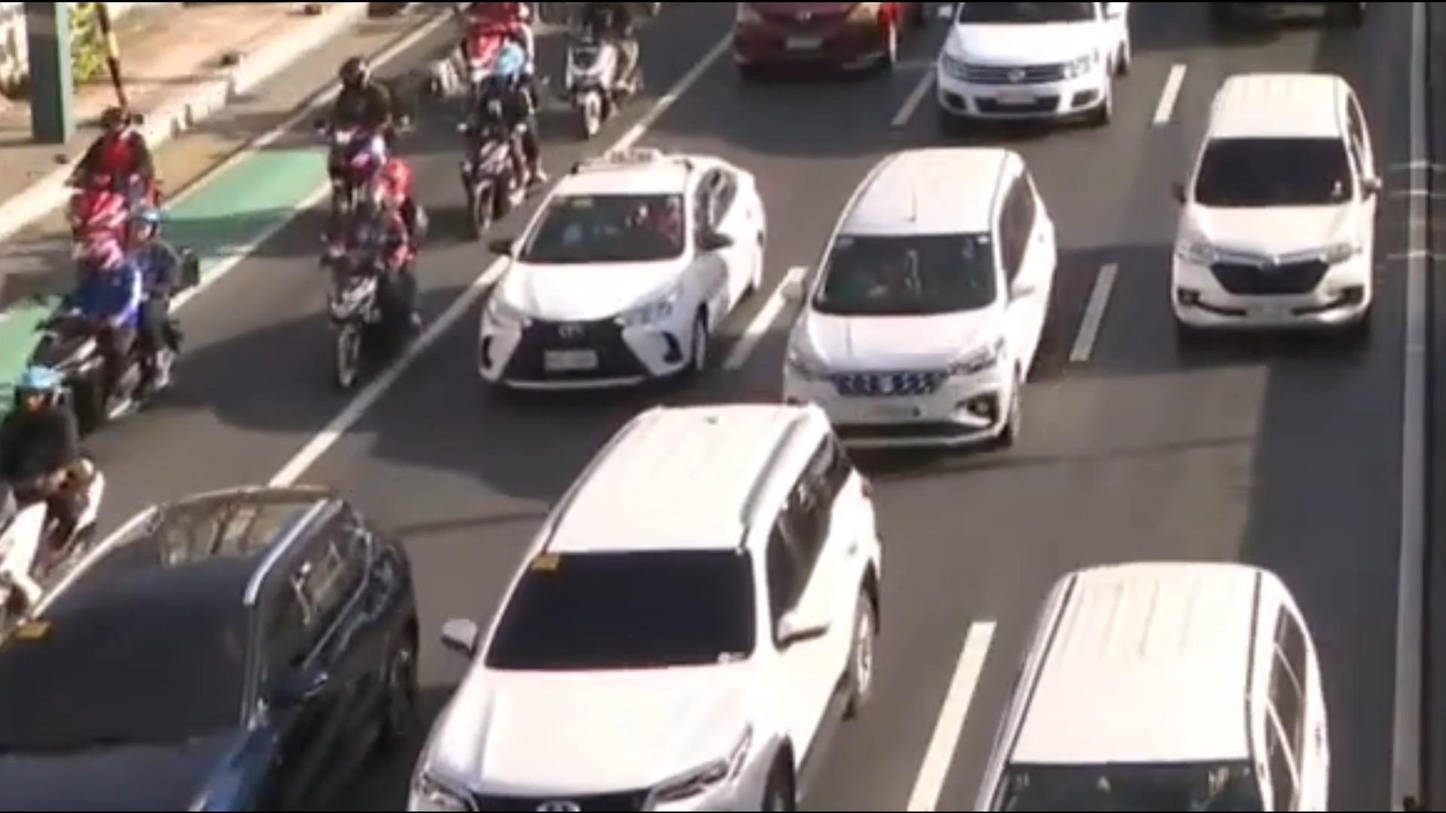Motorcycle: (30, 196, 232, 430), (304, 153, 458, 394), (0, 367, 120, 640), (54, 119, 172, 287), (313, 53, 420, 208), (467, 49, 554, 230), (557, 6, 648, 158), (456, 0, 533, 96)
SUV: (348, 379, 919, 813), (0, 458, 448, 813), (763, 136, 1083, 484), (941, 571, 1377, 813), (1135, 53, 1426, 373)
Sedan: (440, 132, 799, 415)
